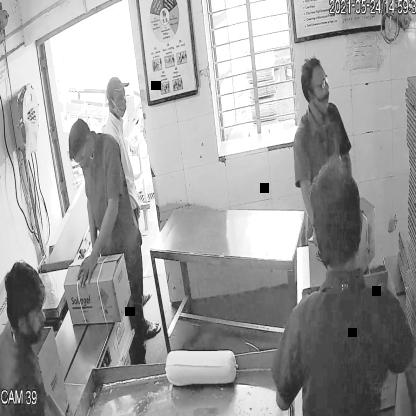goggles: (300, 74, 330, 97)
